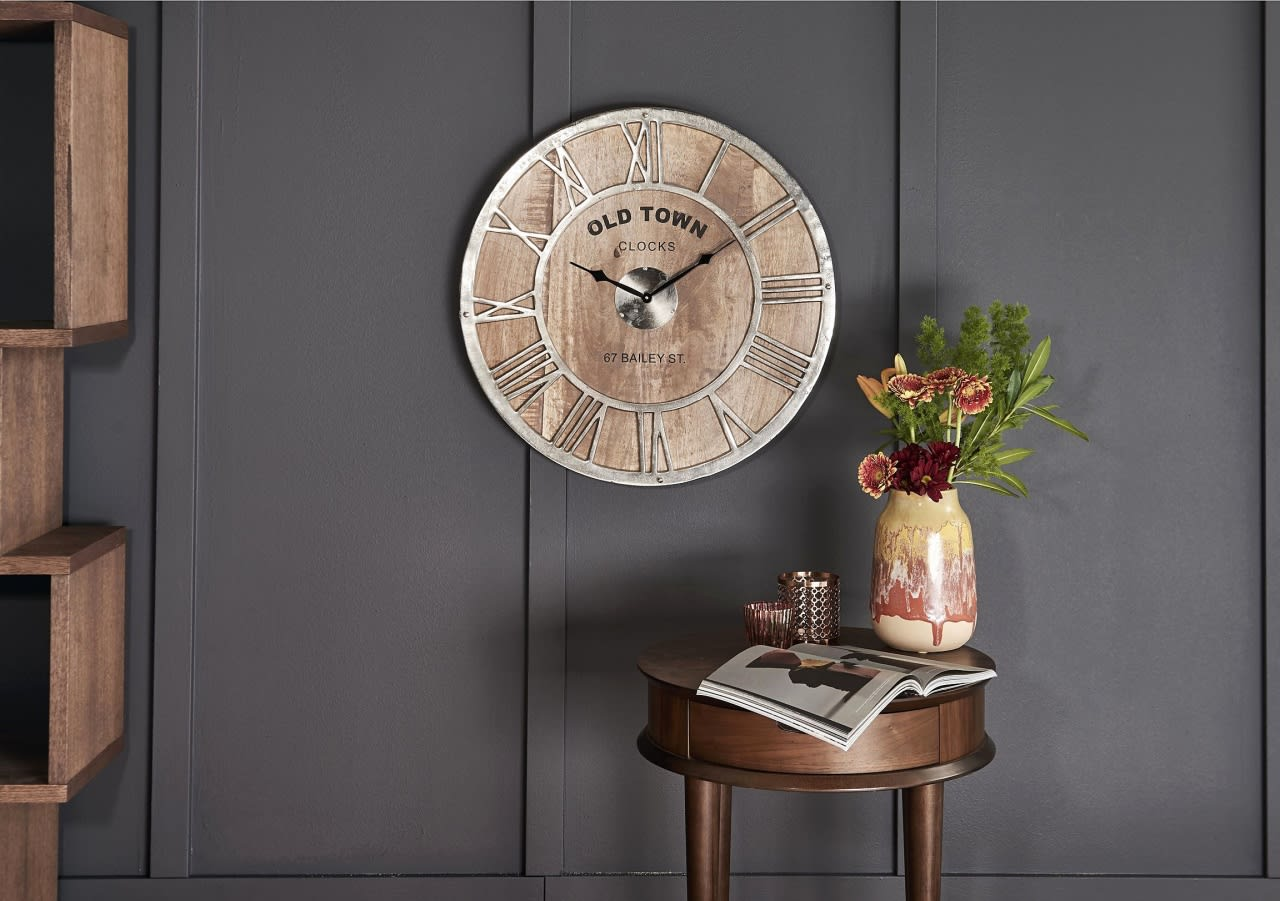jam dinding: (418, 78, 859, 513)
